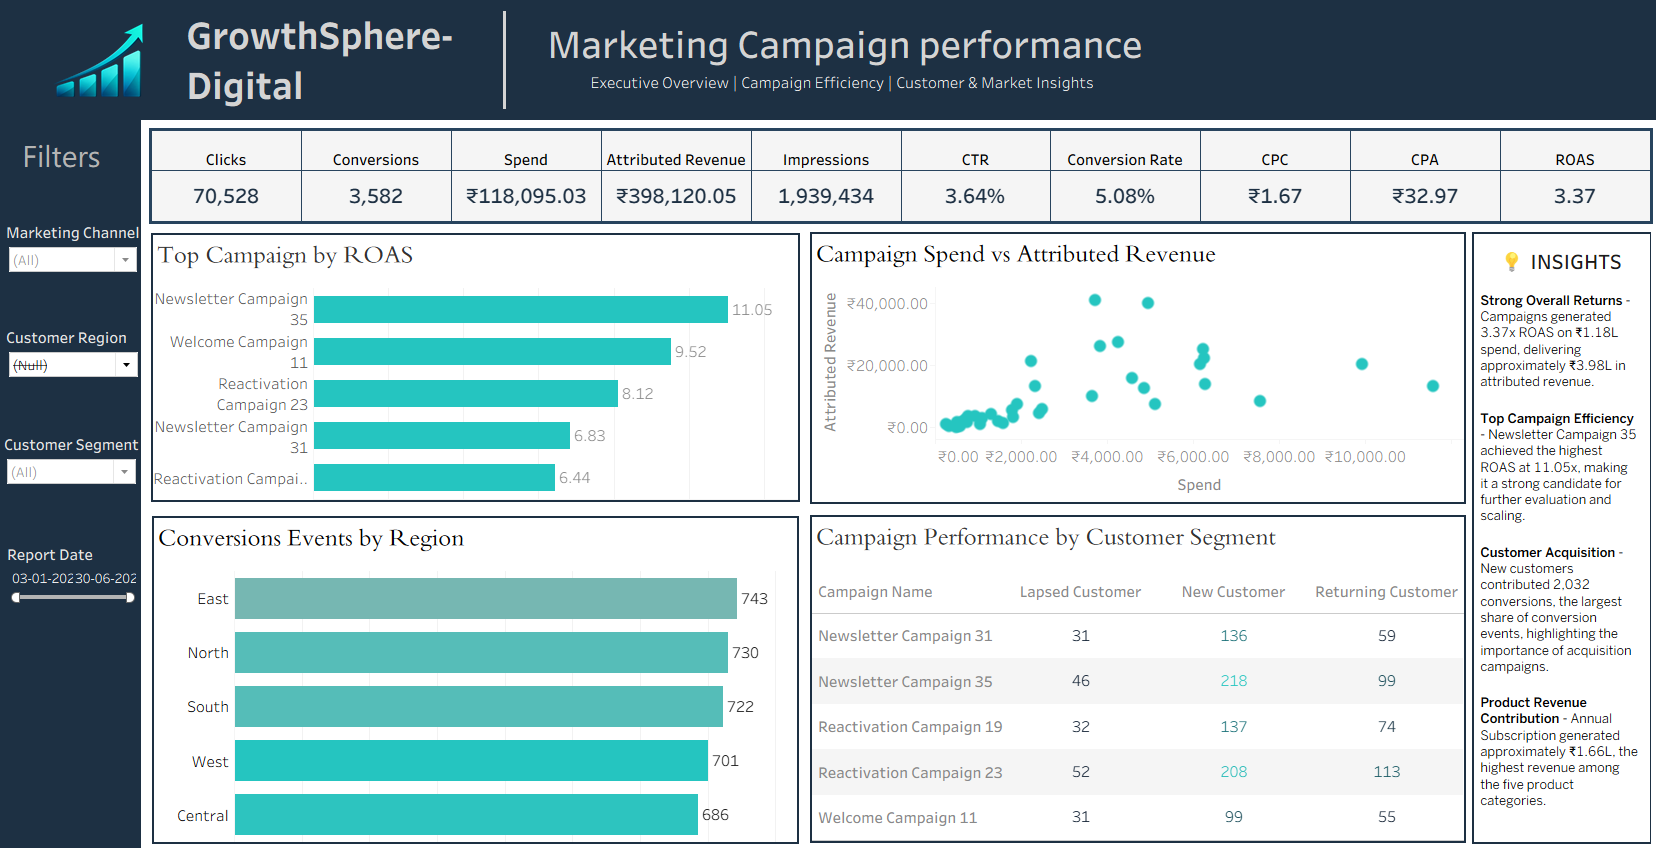

The dashboard page shown, as its layout file describes it:
{"tool":"tableau","page":{"name":"Dashboard 1","canvas":[1000,1000],"units":"permille","ordinal":0},"visuals":[{"type":"text","box":[110.4,2.4,178.2,132.8]},{"type":"blank","box":[303.8,12.9,1.9,115.2]},{"type":"text","box":[328.1,16.4,416.3,68.2]},{"type":"image","param":"Image/Glossy Teal Growth Chart Icon.png","box":[17.2,21.2,83.6,98.7]},{"type":"text","box":[354.2,84.6,330.6,24.7]},{"type":"worksheet","title":"Sheet 1","mark":"Automatic","box":[90.2,150.4,907.4,112.8]},{"type":"text","box":[11.7,158.6,58.6,47]},{"type":"filter","title":"Sheet 3","param":"[federated.0qgnsn50hk5c8y18xnn0v07waoq8].[none:Marketing_Channel:nk]","box":[3.5,260.9,80.8,103.4]},{"type":"worksheet","title":"Sheet 2","mark":"Automatic","rows":["Attributed_Revenue"],"cols":["Spend"],"box":[488.6,272.6,396,319.6]},{"type":"blank","box":[888.1,272.6,108.4,719.1]},{"type":"worksheet","title":"Sheet 3","mark":"Automatic","rows":["Campaign_Name"],"cols":["Calculation_0371972195196935"],"box":[91.4,273.8,391.9,316.1]},{"type":"text","box":[902.2,289.1,88.1,35.2]},{"type":"text","box":[891.6,332.6,99,651]},{"type":"filter","title":"Sheet 7","param":"[federated.0qgnsn50hk5c8y18xnn0v07waoq8].[none:Customer_Region:nk]","box":[3.5,384.2,81.4,89.3]},{"type":"filter","title":"Sheet 10","param":"[federated.0qgnsn50hk5c8y18xnn0v07waoq8].[none:Customer_Segment:nk]","box":[2.3,510,81.4,97.5]},{"type":"worksheet","title":"Sheet 10","mark":"Automatic","rows":["Campaign_Name"],"cols":["Customer_Segment"],"box":[488.6,605.2,396,385.4]},{"type":"worksheet","title":"Sheet 7","mark":"Automatic","rows":["Customer_Region"],"cols":["Conversion_ID"],"box":[92,606.4,390.7,385.4]},{"type":"filter","title":"Sheet 2","param":"[federated.0qgnsn50hk5c8y18xnn0v07waoq8].[none:Report_Date:qk]","box":[4.1,639.2,79.7,74]}]}

Visuals, with their boxes on the dashboard's canvas, which has no fixed pixel size, in thousandths of its width and height (x1, y1, x2, y2). These are canvas units, not pixel positions in the 1656x848 screenshot, which may show the page scaled, cropped or inside an application window:
text: 110:2:289:135
blank: 304:13:306:128
text: 328:16:744:85
image: 17:21:101:120
text: 354:85:685:109
"Sheet 1" worksheet: 90:150:998:263
text: 12:159:70:206
"Sheet 3" filter: 4:261:84:364
"Sheet 2" worksheet: 489:273:885:592
blank: 888:273:996:992
"Sheet 3" worksheet: 91:274:483:590
text: 902:289:990:324
text: 892:333:991:984
"Sheet 7" filter: 4:384:85:474
"Sheet 10" filter: 2:510:84:608
"Sheet 10" worksheet: 489:605:885:991
"Sheet 7" worksheet: 92:606:483:992
"Sheet 2" filter: 4:639:84:713
